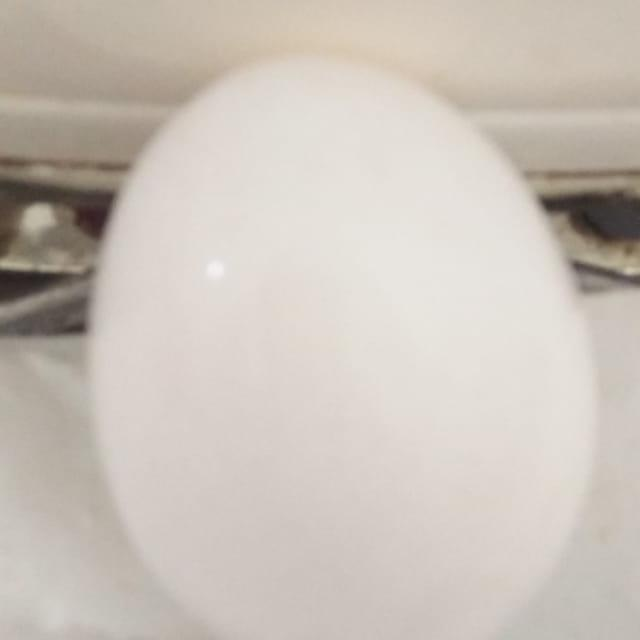egg: (76, 63, 588, 640)
